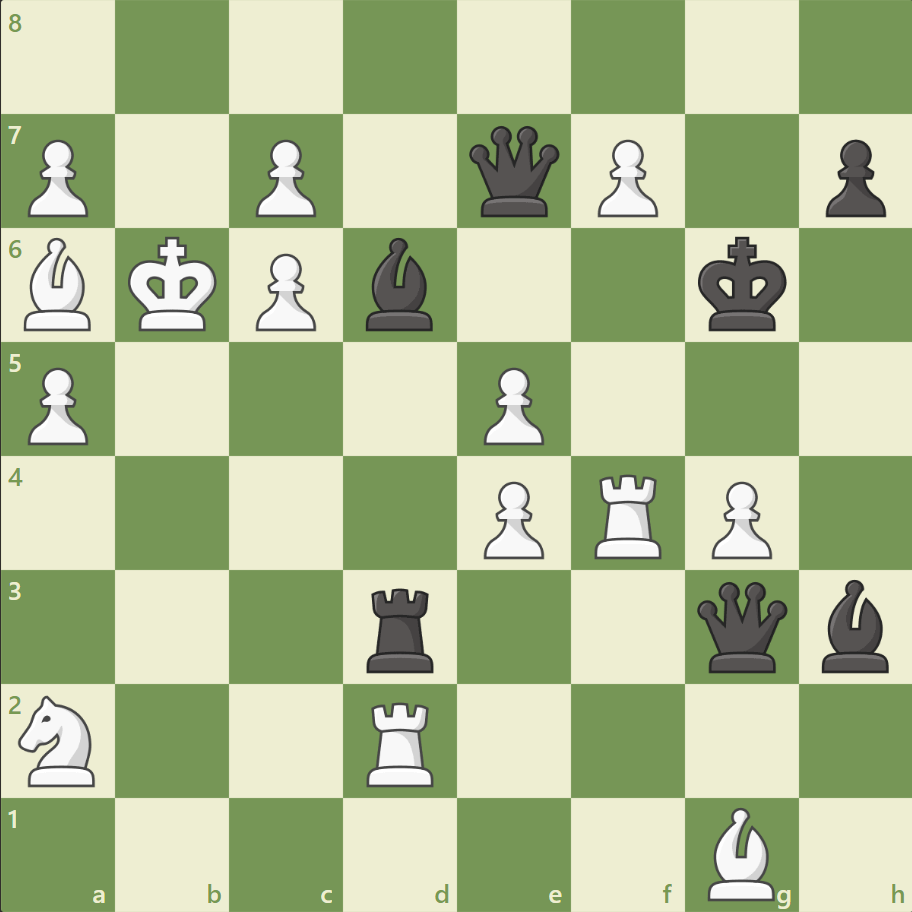B: (17, 233, 101, 336), (698, 801, 782, 904)
K: (124, 231, 224, 339)
N: (11, 688, 108, 791)
P: (20, 132, 95, 223), (247, 132, 322, 223), (247, 246, 322, 337), (20, 359, 95, 450), (474, 359, 549, 450), (474, 473, 549, 564), (701, 473, 776, 564), (588, 132, 662, 223)
R: (587, 466, 670, 563), (360, 693, 442, 790)
b: (358, 233, 442, 336), (812, 574, 896, 676)
k: (692, 231, 792, 339)
p: (815, 132, 889, 223)
q: (464, 122, 563, 222), (691, 576, 790, 676)
r: (360, 579, 442, 676)
